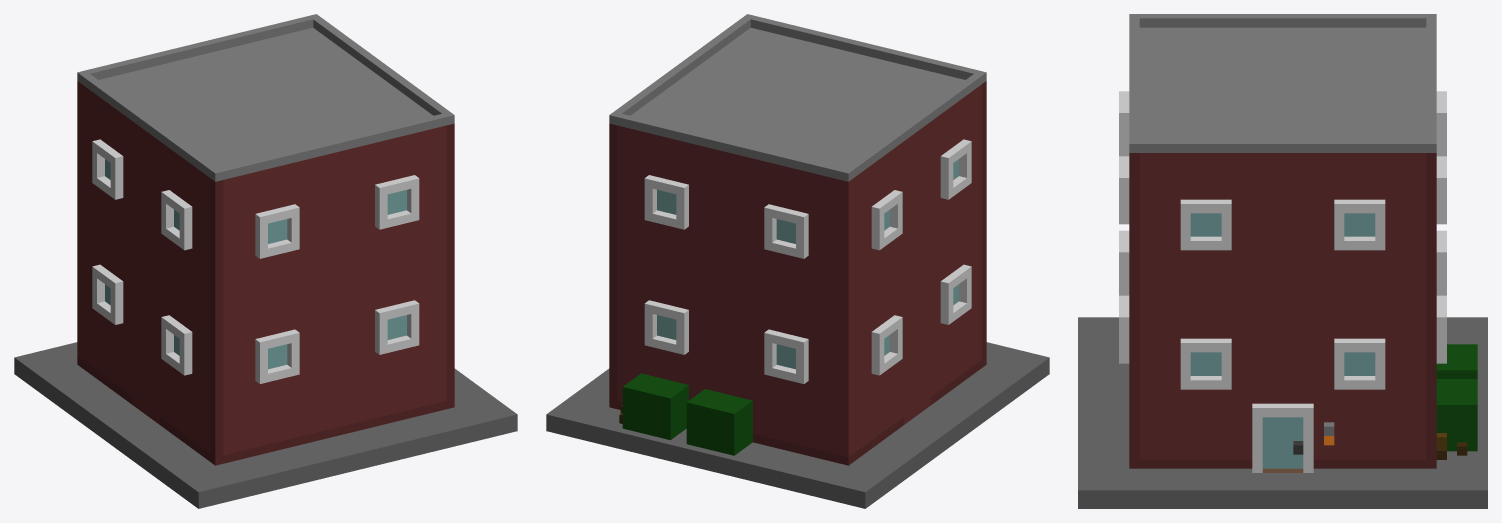
Rendered from town_model-9.obj.
3 views of the same model, side by side, from view 1: azimuth 30°, elevation 25°; view 2: azimuth 150°, elevation 25°; view 3: azimuth 270°, elevation 25° (orthographic). The views are drawn at different scales.
Parts seen in each view (by area): view 1: town_model-9; view 2: town_model-9; view 3: town_model-9.
Boxes of the visible parts, <box> form: town_model-9: <box>14,14,517,508</box>; town_model-9: <box>546,14,1049,508</box>; town_model-9: <box>1078,14,1487,508</box>.
Bounding box in the file's own units: 40 × 37 × 40.
1 material, 1 textured.
